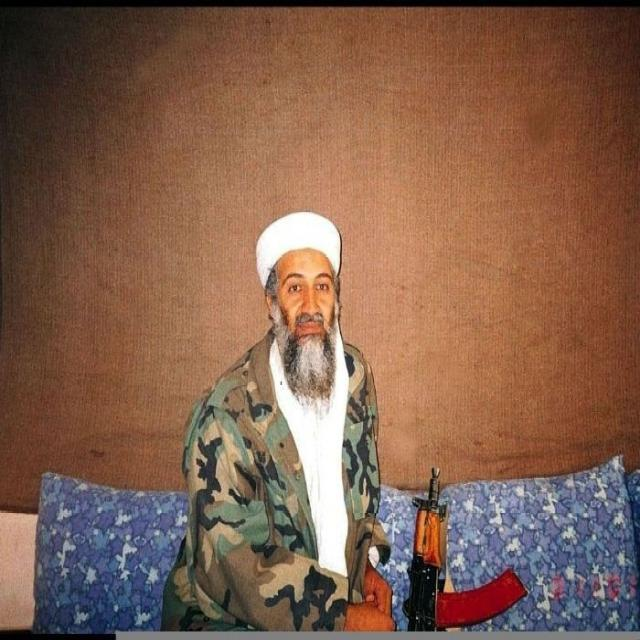ak: (403, 460, 514, 640)
